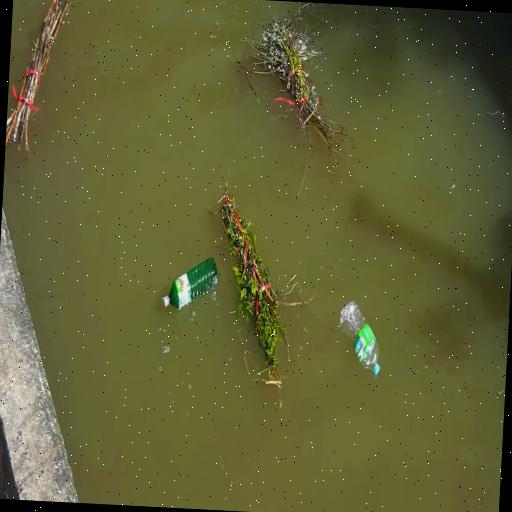plastic: (333, 297, 384, 377), (158, 254, 220, 316)
twig: (208, 192, 312, 386), (250, 30, 335, 160), (5, 0, 76, 148)
